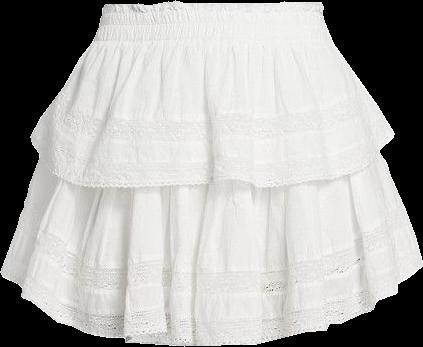Hemline: (0, 264, 422, 346), (29, 134, 397, 188)
Waistline: (91, 34, 331, 43), (99, 0, 325, 9)
